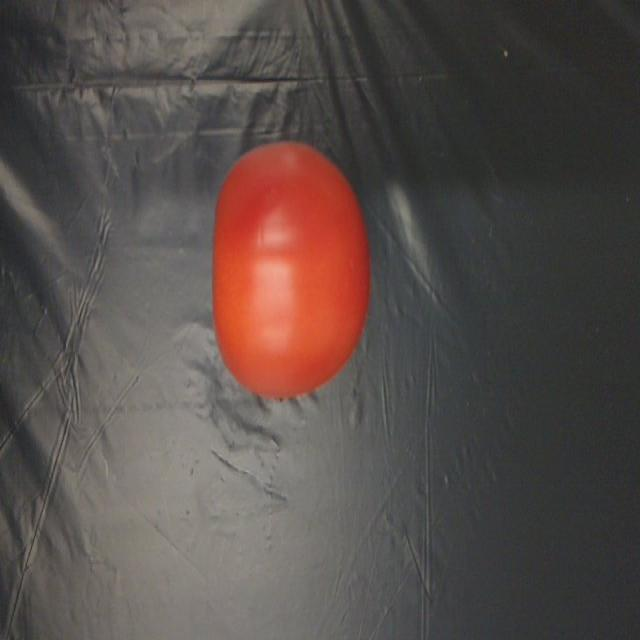kirmizi: (176, 114, 394, 436)
